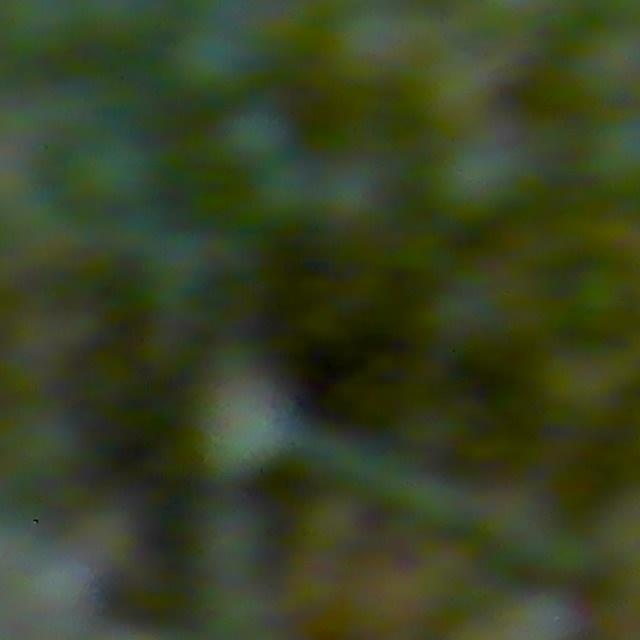SeaGrape: (431, 128, 531, 223), (327, 0, 426, 92), (169, 22, 253, 101), (194, 501, 270, 582), (570, 21, 639, 109), (251, 154, 327, 230), (315, 154, 388, 231), (215, 97, 293, 169), (584, 104, 639, 197), (300, 494, 366, 558), (572, 263, 635, 327)
